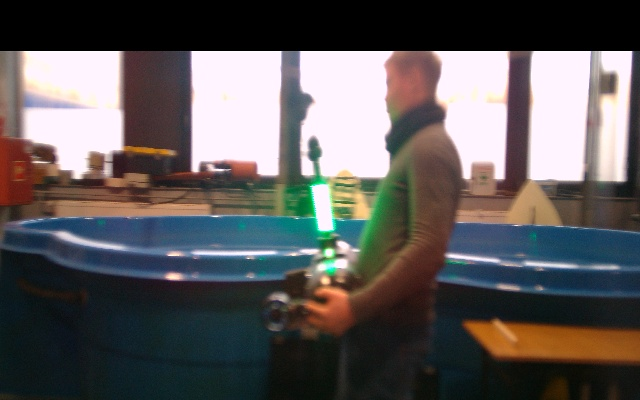green: (310, 181, 335, 236)
